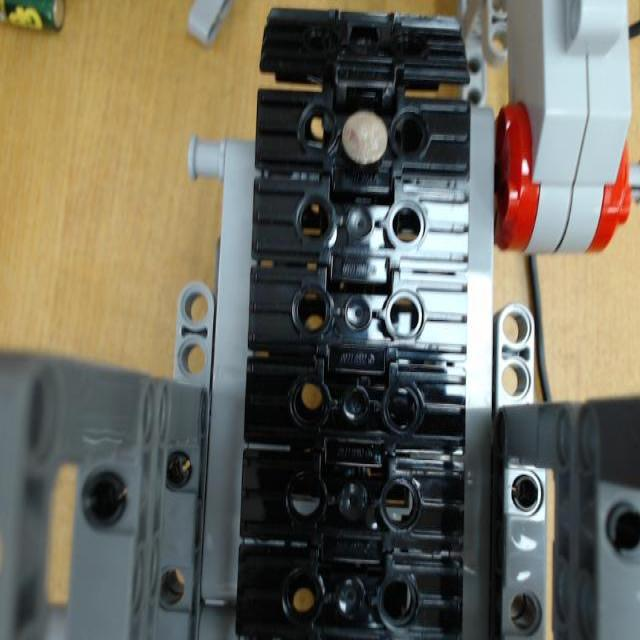COIN: (339, 106, 388, 165)
